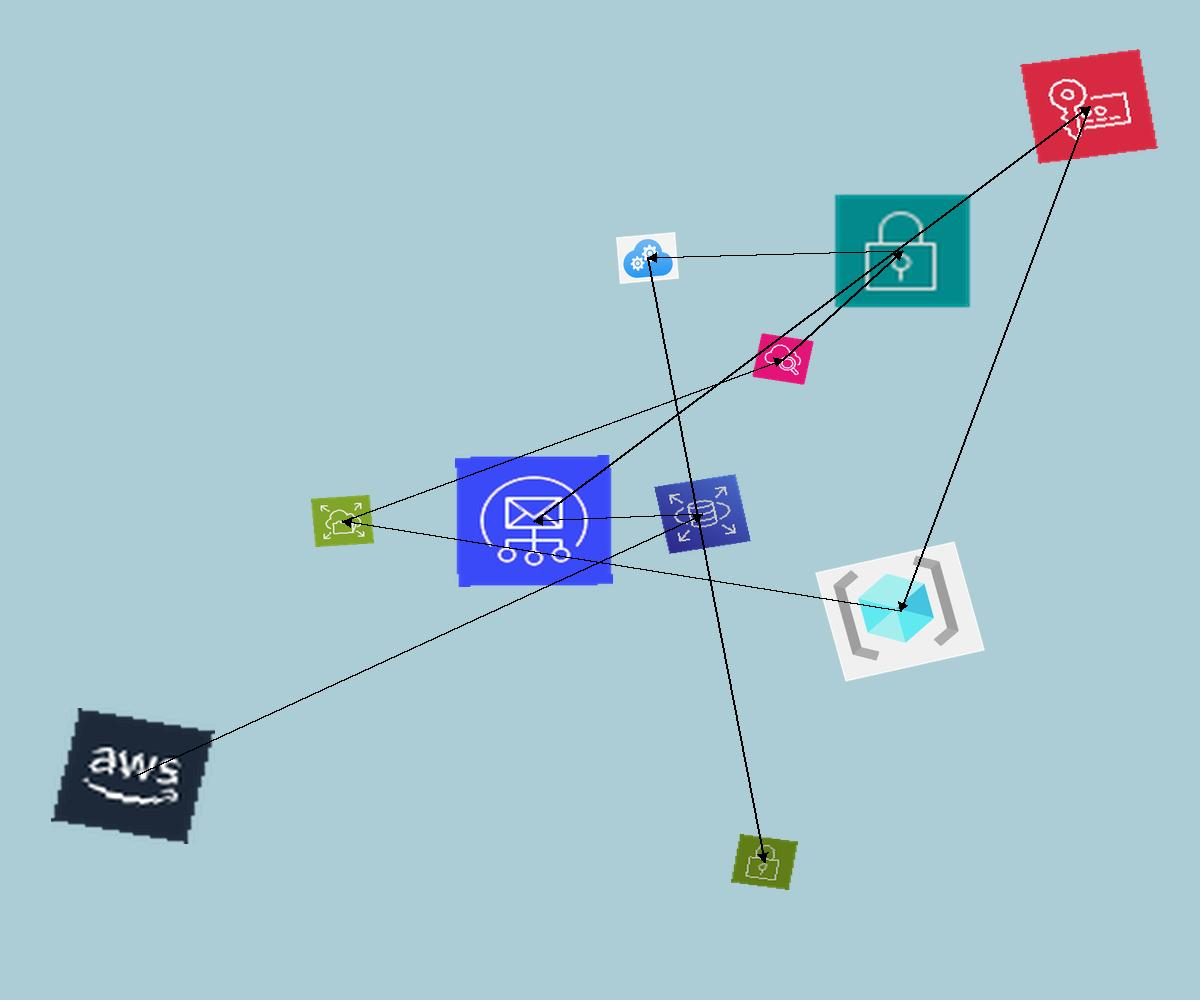AWS-Cloud-logo: (51, 708, 215, 844)
AWS-CloudWatch: (752, 333, 814, 385)
AWS-EFS: (311, 495, 374, 547)
AWS-Key-Management-Service: (1020, 49, 1158, 164)
AWS-Private-subnet: (832, 192, 973, 310)
AWS-Public-subnet: (731, 834, 798, 890)
AWS-RDS: (654, 474, 751, 554)
AWS-Simple-Email-Service: (455, 455, 613, 587)
Azure_cloud_services: (616, 232, 679, 284)
Azure_resource_group: (815, 541, 985, 682)
